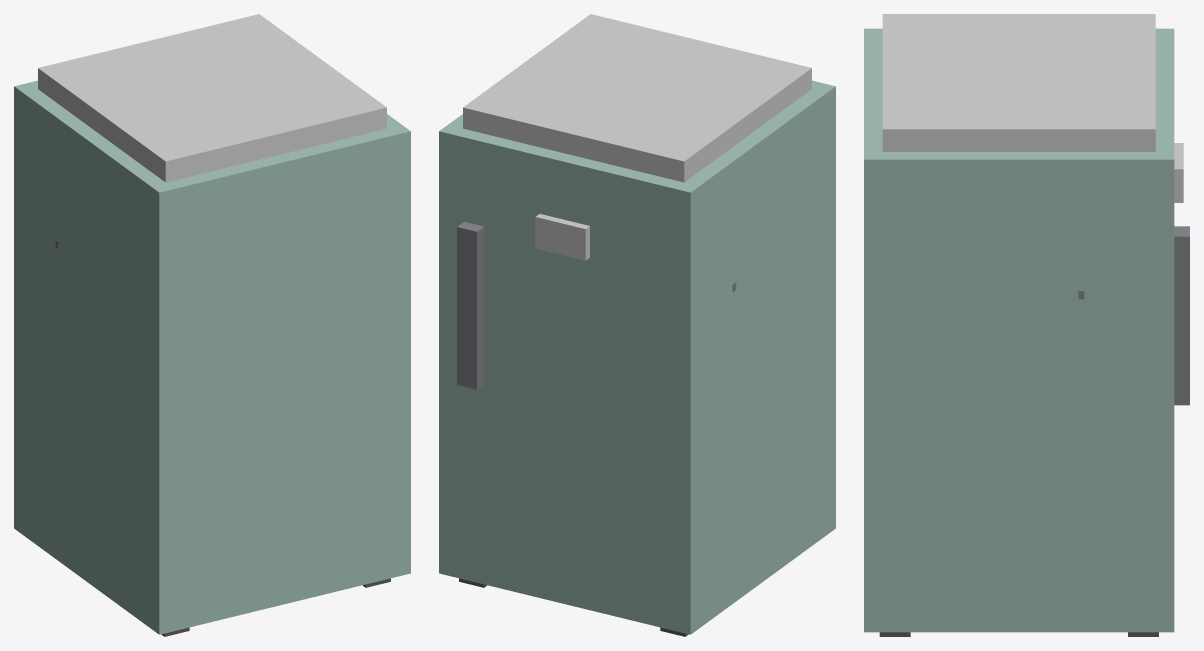
The model's file is eletro_geladeira2.glb.
3 renders of one model, left to right at view 1: azimuth 30°, elevation 25°; view 2: azimuth 150°, elevation 25°; view 3: azimuth 270°, elevation 25°, orthographic. The views are drawn at different scales.
Parts seen in each view (by area): view 1: ELETRO_GELADEIRA2_v01; view 2: ELETRO_GELADEIRA2_v01; view 3: ELETRO_GELADEIRA2_v01.
Part boxes in pixels (left/top/right/bottom): ELETRO_GELADEIRA2_v01: left=14, top=14, right=410, bottom=636; ELETRO_GELADEIRA2_v01: left=439, top=14, right=835, bottom=636; ELETRO_GELADEIRA2_v01: left=864, top=14, right=1189, bottom=636.
Bounding box in the file's own units: 0.502 × 0.9 × 0.525.
